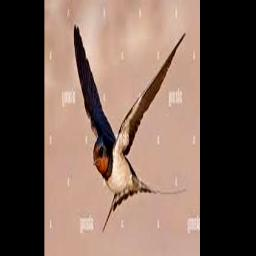Swallow: (74, 24, 186, 233)
